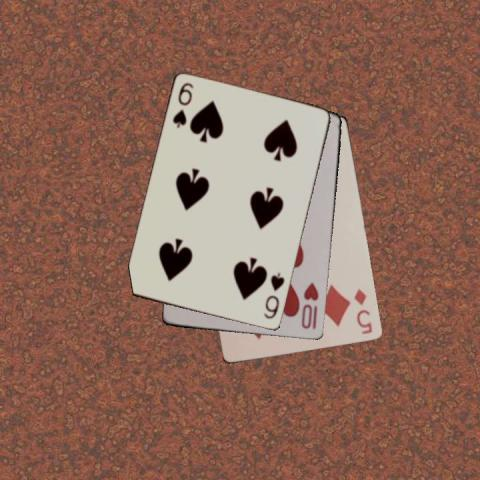10h: (299, 280, 320, 332)
5d: (351, 286, 374, 336)
6s: (261, 270, 286, 321), (170, 80, 195, 129)
